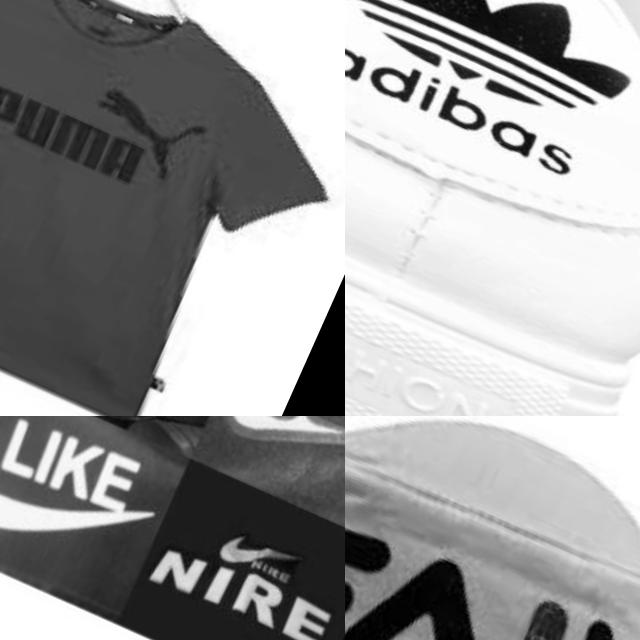ADIDAS_fake: (345, 0, 640, 217)
FILA_fake: (345, 480, 640, 640)
NIKE_fake: (134, 477, 345, 640), (0, 416, 179, 597), (217, 416, 345, 511)
PUMA_original: (0, 29, 213, 212)
